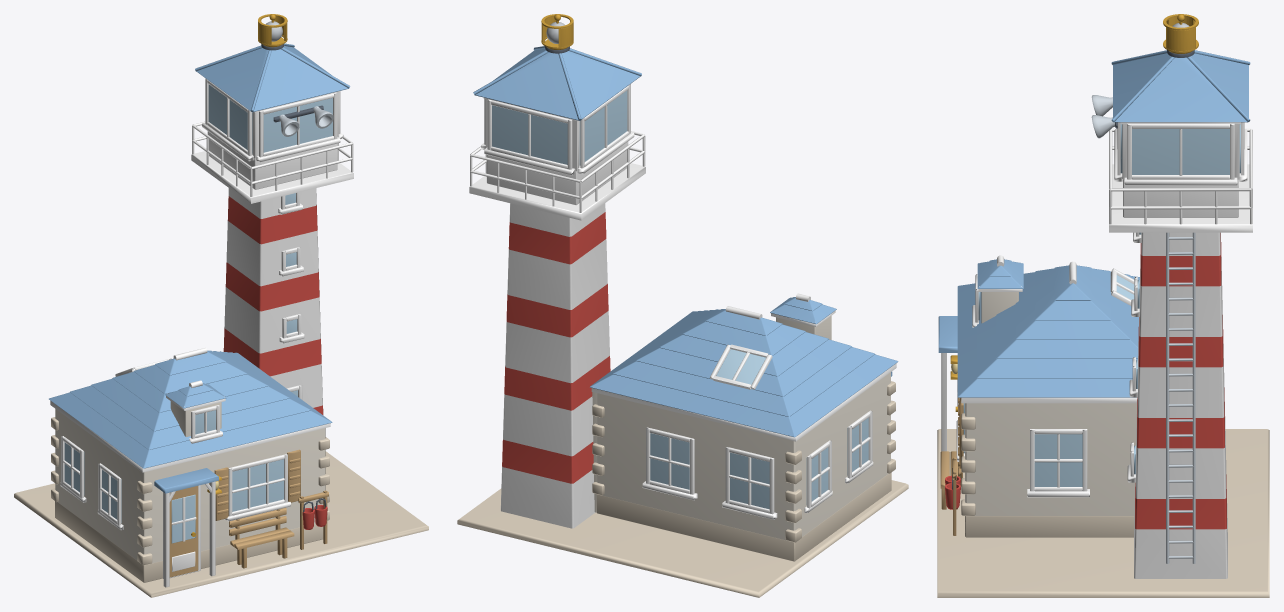
File: works_alarm.glb
3 renders of one model, left to right at view 1: azimuth 30°, elevation 25°; view 2: azimuth 150°, elevation 25°; view 3: azimuth 270°, elevation 25°, orthographic. The views are drawn at different scales.
Visible parts, largest first — view 1: works_alarm_structure, beacon; view 2: works_alarm_structure, beacon; view 3: works_alarm_structure, beacon.
Boxes of the visible parts, x1,y1,x2,y2 form: works_alarm_structure: (14, 14, 428, 597); beacon: (258, 14, 287, 45); works_alarm_structure: (457, 14, 908, 597); beacon: (541, 14, 573, 48); works_alarm_structure: (937, 14, 1269, 597); beacon: (1163, 14, 1198, 52).
Bounding box in the file's own units: 7 × 10.98 × 6.
